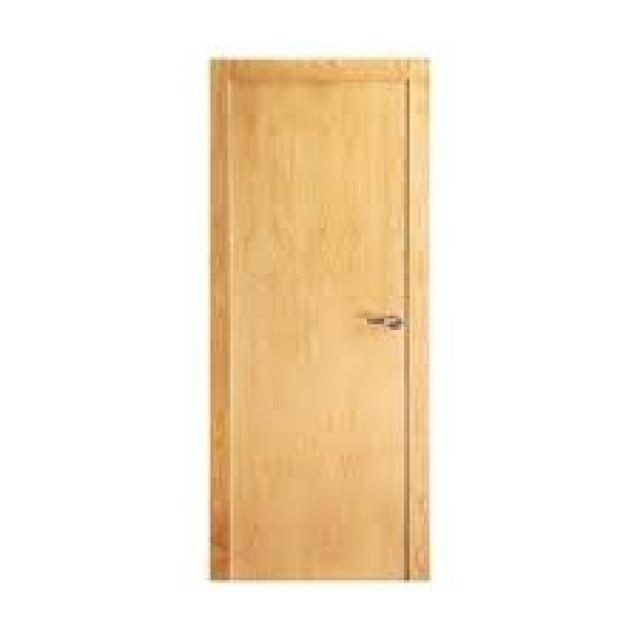door: (206, 56, 431, 582)
